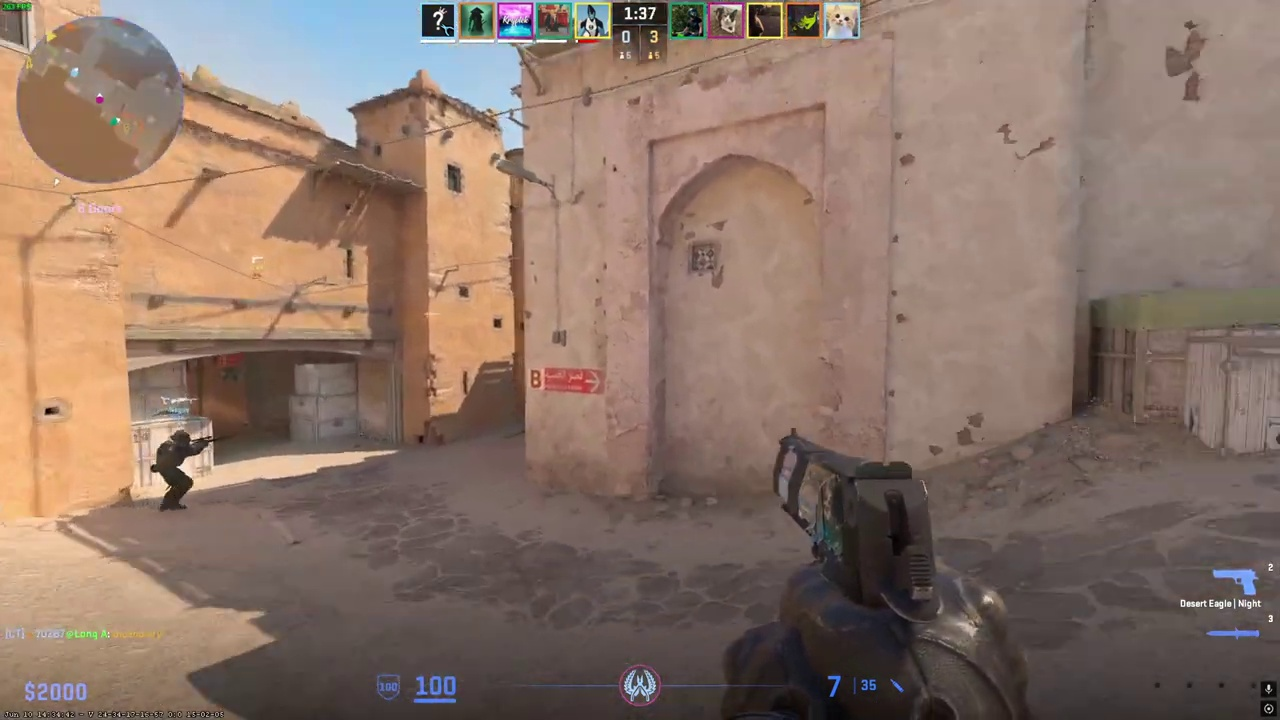CT: (155, 428, 199, 512)
